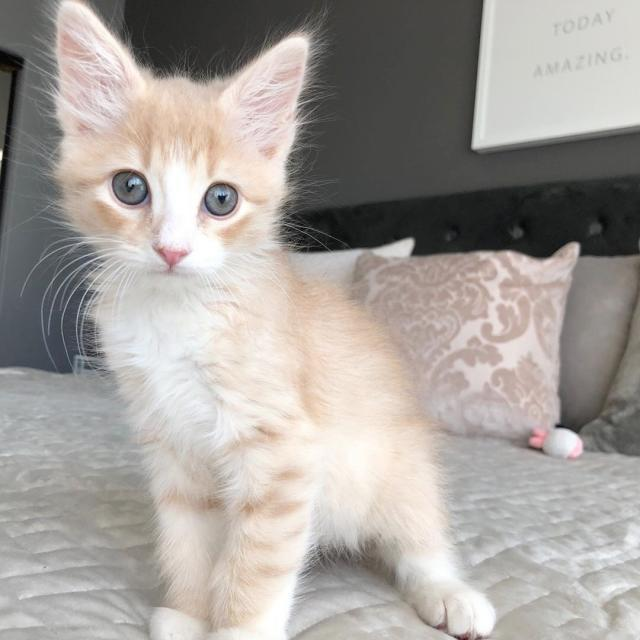da khoe manh: (170, 300, 429, 542)
